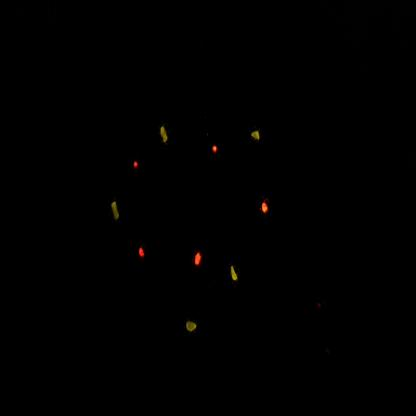PP: (181, 306, 203, 348), (106, 193, 125, 228), (157, 117, 173, 152), (249, 119, 265, 150), (228, 259, 242, 291)
PVC: (256, 188, 276, 227), (191, 240, 209, 275), (135, 240, 150, 266), (129, 153, 145, 177), (210, 137, 223, 163)
